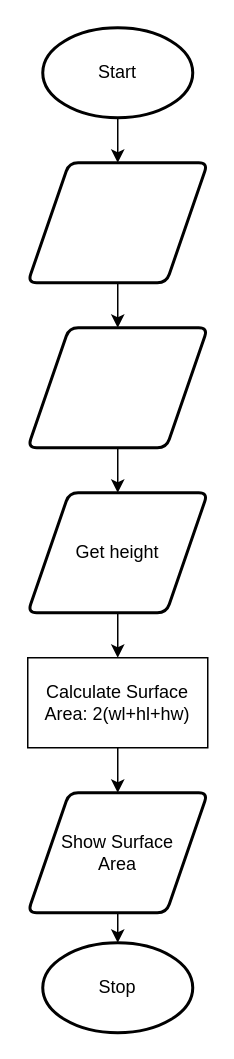
Some shapes in this 234 by 1059 pixel diagram are drawn without their labels. Each missing label, with the box of its shape:
Get length: (26, 160, 208, 284)
Get width: (26, 326, 208, 448)
